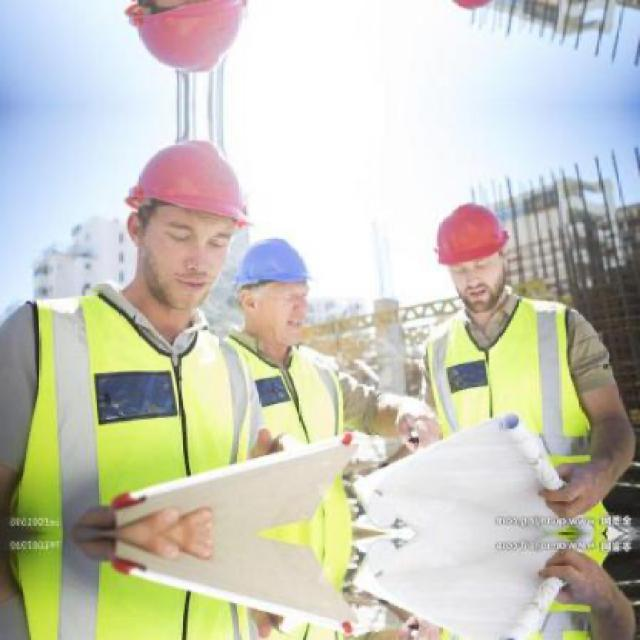helmet: (109, 128, 262, 312), (109, 0, 263, 86), (228, 224, 326, 353), (428, 194, 517, 315)
